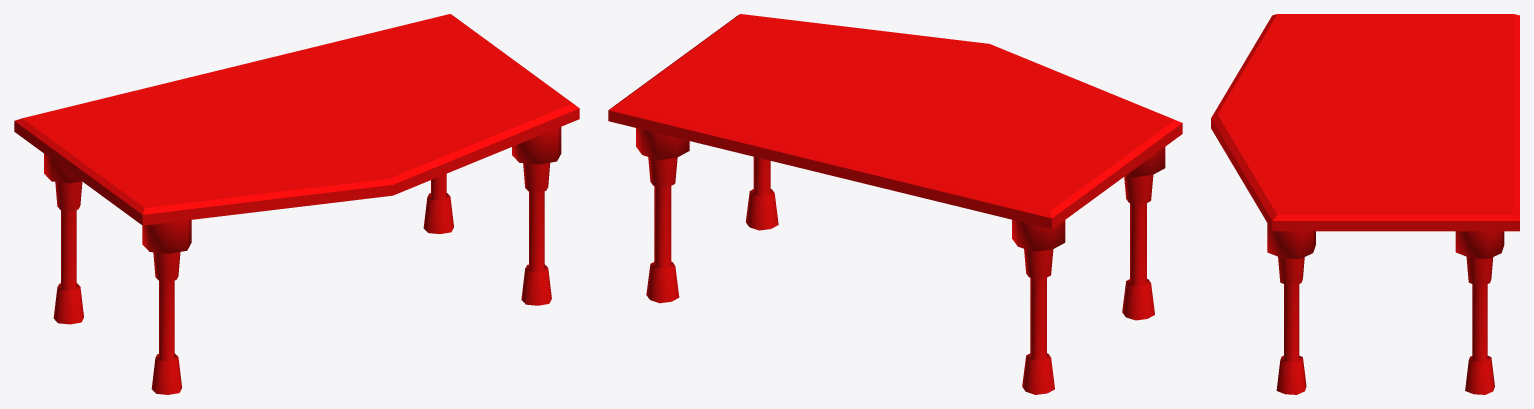
Rendered from WitchShop_Table.fbx.
3 renders of one model, left to right at view 1: azimuth 30°, elevation 25°; view 2: azimuth 150°, elevation 25°; view 3: azimuth 270°, elevation 25°, orthographic. The views are drawn at different scales.
Parts seen in each view (by area): view 1: WitchTable; view 2: WitchTable; view 3: WitchTable.
Boxes of the visible parts, <box> form: WitchTable: <box>14,14,579,394</box>; WitchTable: <box>608,14,1182,394</box>; WitchTable: <box>1211,14,1519,394</box>.
Bounding box in the file's own units: 193 × 82.08 × 123.
